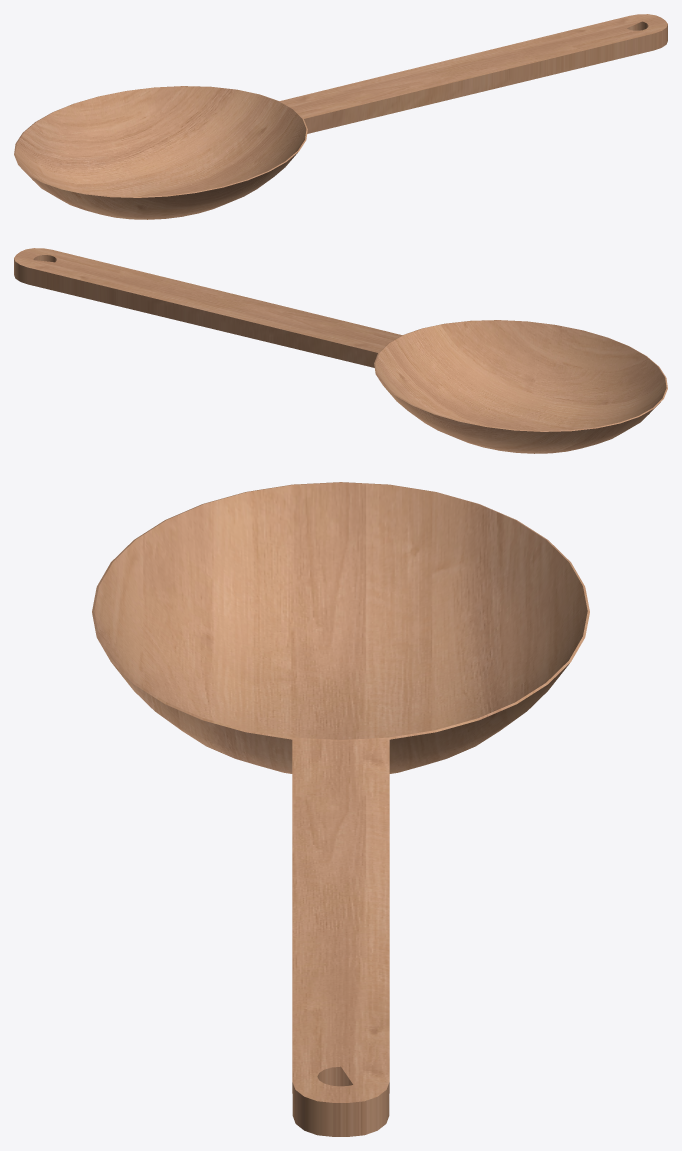
Rendered from wooden_spoon.obj.
3 renders of one model, top to bottom at view 1: azimuth 30°, elevation 25°; view 2: azimuth 150°, elevation 25°; view 3: azimuth 270°, elevation 25°, orthographic. The views are drawn at different scales.
Visible parts, largest first — view 1: wooden_spoon; view 2: wooden_spoon; view 3: wooden_spoon.
Boxes of the visible parts, left/top/right/bottom form: wooden_spoon: left=14, top=14, right=667, bottom=219; wooden_spoon: left=14, top=248, right=667, bottom=453; wooden_spoon: left=92, top=482, right=589, bottom=1136.
Bounding box in the file's own units: 0.23 × 0.0194 × 0.078.
1 material, 1 textured.
